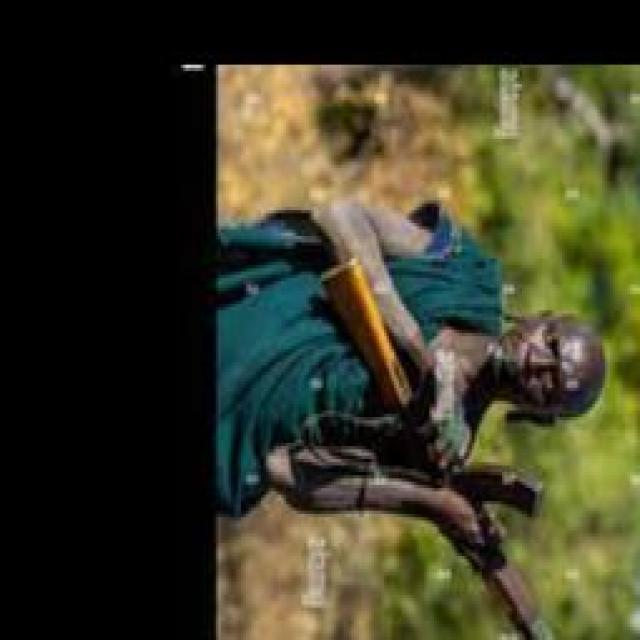weapon: (321, 258, 557, 640)
